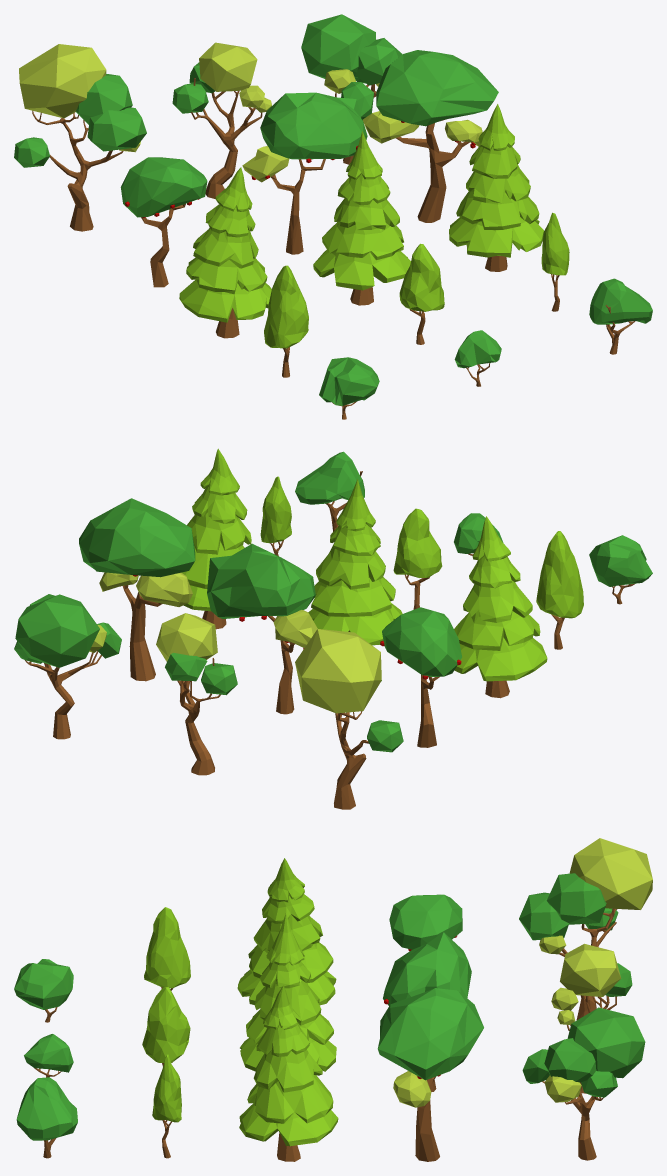
Rendered from trees.fbx.
The picture shows the model from 3 angles, top to bottom: view 1: azimuth 30°, elevation 25°; view 2: azimuth 150°, elevation 25°; view 3: azimuth 270°, elevation 25°; orthographic projection. The views are drawn at different scales.
Visible parts, largest first — view 1: Lowpoly_Tree_15, Lowpoly_Tree_06, Lowpoly_Tree_07, Lowpoly_Tree_08, Lowpoly_Tree_09, Lowpoly_Tree_05, Lowpoly_Tree_02, Lowpoly_Tree_01, Lowpoly_Tree_04, Lowpoly_Tree_10, Lowpoly_Tree_14, Lowpoly_Tree_03 (+3 smaller); view 2: Lowpoly_Tree_06, Lowpoly_Tree_07, Lowpoly_Tree_05, Lowpoly_Tree_08, Lowpoly_Tree_15, Lowpoly_Tree_02, Lowpoly_Tree_01, Lowpoly_Tree_09, Lowpoly_Tree_04, Lowpoly_Tree_10, Lowpoly_Tree_03, Lowpoly_Tree_14 (+3 smaller); view 3: Lowpoly_Tree_09, Lowpoly_Tree_06, Lowpoly_Tree_15, Lowpoly_Tree_02, Lowpoly_Tree_08, Lowpoly_Tree_07, Lowpoly_Tree_05, Lowpoly_Tree_01, Lowpoly_Tree_04, Lowpoly_Tree_14, Lowpoly_Tree_10, Lowpoly_Tree_03 (+3 smaller).
Boxes of the visible parts, <box> form: Lowpoly_Tree_15: <box>14,44,146,231</box>; Lowpoly_Tree_06: <box>363,50,498,222</box>; Lowpoly_Tree_07: <box>179,167,271,338</box>; Lowpoly_Tree_08: <box>313,131,410,305</box>; Lowpoly_Tree_09: <box>449,104,543,271</box>; Lowpoly_Tree_05: <box>242,92,367,254</box>; Lowpoly_Tree_02: <box>301,14,402,164</box>; Lowpoly_Tree_01: <box>172,42,271,198</box>; Lowpoly_Tree_04: <box>120,157,207,287</box>; Lowpoly_Tree_10: <box>264,265,308,377</box>; Lowpoly_Tree_14: <box>589,278,652,354</box>; Lowpoly_Tree_03: <box>399,243,444,344</box>; Lowpoly_Tree_06: <box>79,498,195,681</box>; Lowpoly_Tree_07: <box>454,516,547,698</box>; Lowpoly_Tree_05: <box>207,543,317,714</box>; Lowpoly_Tree_08: <box>308,479,402,645</box>; Lowpoly_Tree_15: <box>295,629,403,809</box>; Lowpoly_Tree_02: <box>14,594,121,739</box>; Lowpoly_Tree_01: <box>156,613,237,775</box>; Lowpoly_Tree_09: <box>181,448,251,629</box>; Lowpoly_Tree_04: <box>380,607,461,747</box>; Lowpoly_Tree_10: <box>536,531,583,649</box>; Lowpoly_Tree_03: <box>393,508,442,609</box>; Lowpoly_Tree_14: <box>295,451,364,531</box>; Lowpoly_Tree_09: <box>239,985,338,1161</box>; Lowpoly_Tree_06: <box>377,988,483,1161</box>; Lowpoly_Tree_15: <box>519,838,652,1019</box>; Lowpoly_Tree_02: <box>522,1007,645,1160</box>; Lowpoly_Tree_08: <box>240,913,336,1071</box>; Lowpoly_Tree_07: <box>237,858,336,1005</box>; Lowpoly_Tree_05: <box>383,932,471,1091</box>; Lowpoly_Tree_01: <box>551,943,632,1093</box>; Lowpoly_Tree_04: <box>389,894,462,951</box>; Lowpoly_Tree_14: <box>16,1077,77,1158</box>; Lowpoly_Tree_10: <box>144,907,190,990</box>; Lowpoly_Tree_03: <box>142,987,190,1066</box>.
Size of the model in its own units: 466 by 194 by 639.
